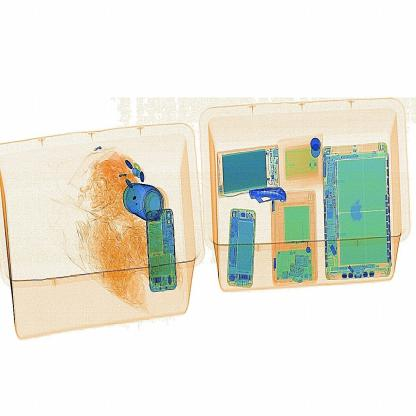knife: (245, 183, 291, 210)
